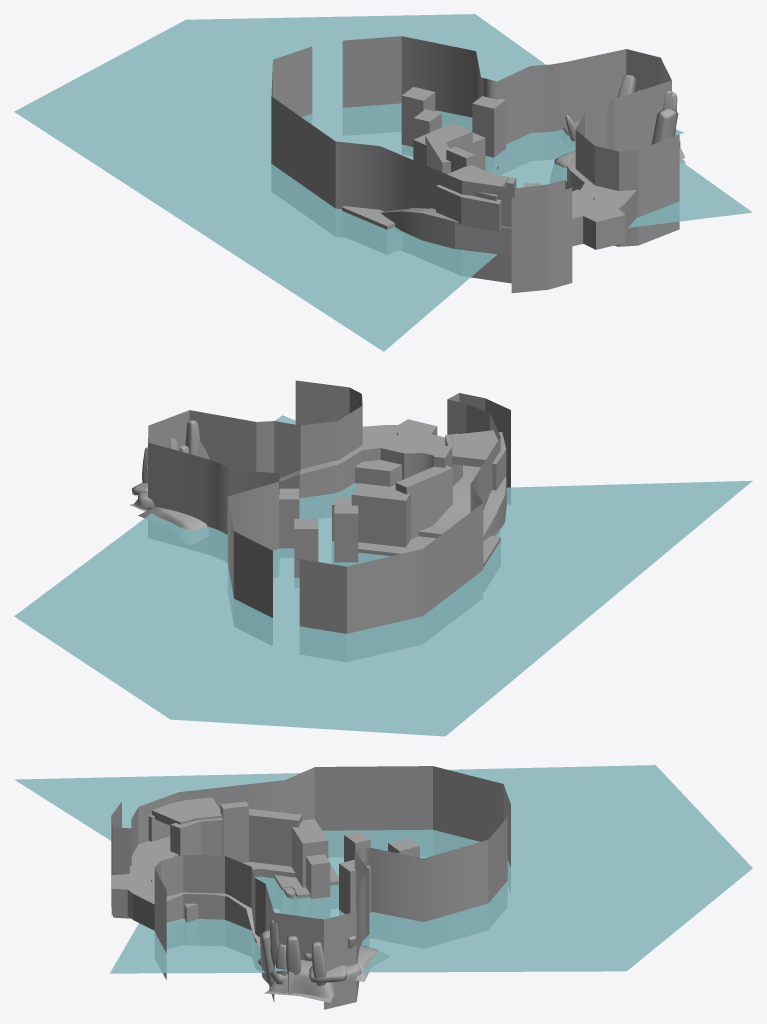
The model's file is UnderTheFalls_Greybox.fbx.
3 views of the same model, one above another, from view 1: azimuth 30°, elevation 25°; view 2: azimuth 150°, elevation 25°; view 3: azimuth 270°, elevation 25° (orthographic). The views are drawn at different scales.
Visible parts, largest first — view 1: polySurface687, pCube2273, pCube2274, pCube2216, pCube2263, pCube2219, pCube2279, pCube2282, pCube2271, pCube2218, pCube2270, pCube2235 (+1 smaller); view 2: polySurface687, pCube2273, pCube2274, pCube2216, pCube2271, pCube2270, pCube2263, pCube2262, pCube2218, pCube2242, pCube2279, pCube2282 (+1 smaller); view 3: polySurface687, pCube2273, pCube2274, pCube2216, pCube2270, pCube2217, pCube2220, pCube2271, pCube2281, pCube2218, pCube2240, pCube2279 (+12 smaller).
Part boxes in pixels (x1,y1,x2,y2): polySurface687: (14,14,752,351); pCube2273: (342,36,679,246); pCube2274: (271,46,572,293); pCube2216: (380,153,636,255); pCube2263: (342,206,402,254); pCube2219: (436,185,501,231); pCube2279: (472,96,505,166); pCube2282: (401,87,435,155); pCube2271: (413,123,472,165); pCube2218: (447,165,508,200); pCube2270: (425,134,450,174); pCube2235: (651,108,678,144); polySurface687: (14,415,752,736); pCube2273: (148,380,362,645); pCube2274: (299,393,510,661); pCube2216: (279,419,506,541); pCube2271: (351,483,410,547); pCube2270: (395,465,452,539); pCube2263: (358,535,500,590); pCube2262: (334,505,358,565); pCube2218: (451,430,497,467); pCube2242: (138,507,208,544); pCube2279: (279,488,299,557); pCube2282: (294,518,318,587); polySurface687: (14,765,752,973); pCube2273: (154,817,507,1009); pCube2274: (111,766,510,918); pCube2216: (111,836,260,950); pCube2270: (249,808,302,908); pCube2217: (170,818,222,855); pCube2220: (220,801,248,862); pCube2271: (291,819,328,914); pCube2281: (306,854,330,918); pCube2218: (152,797,222,825); pCube2240: (269,960,335,998); pCube2279: (339,859,370,921).
Size of the model in its own units: 30953 by 6826 by 42885.
